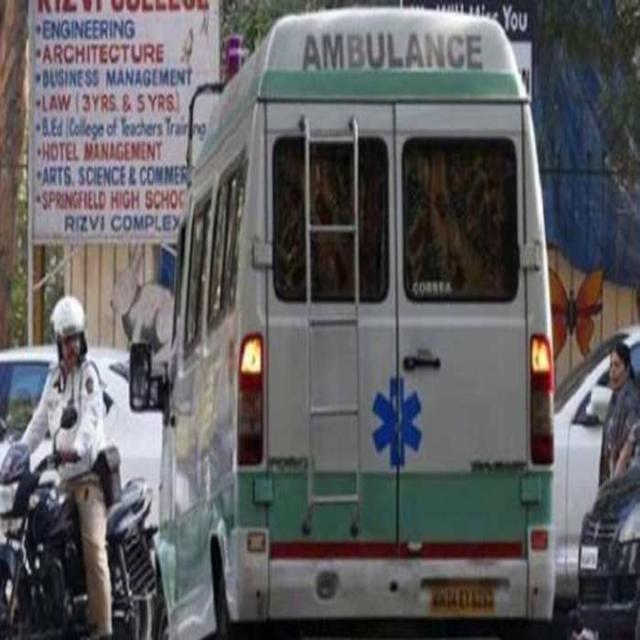ambulance: (140, 0, 562, 640)
